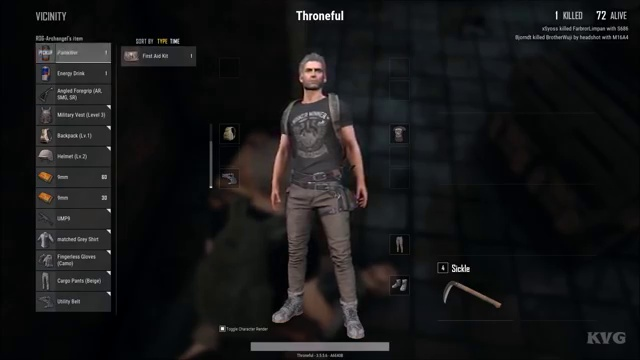Player: (258, 52, 370, 311)
